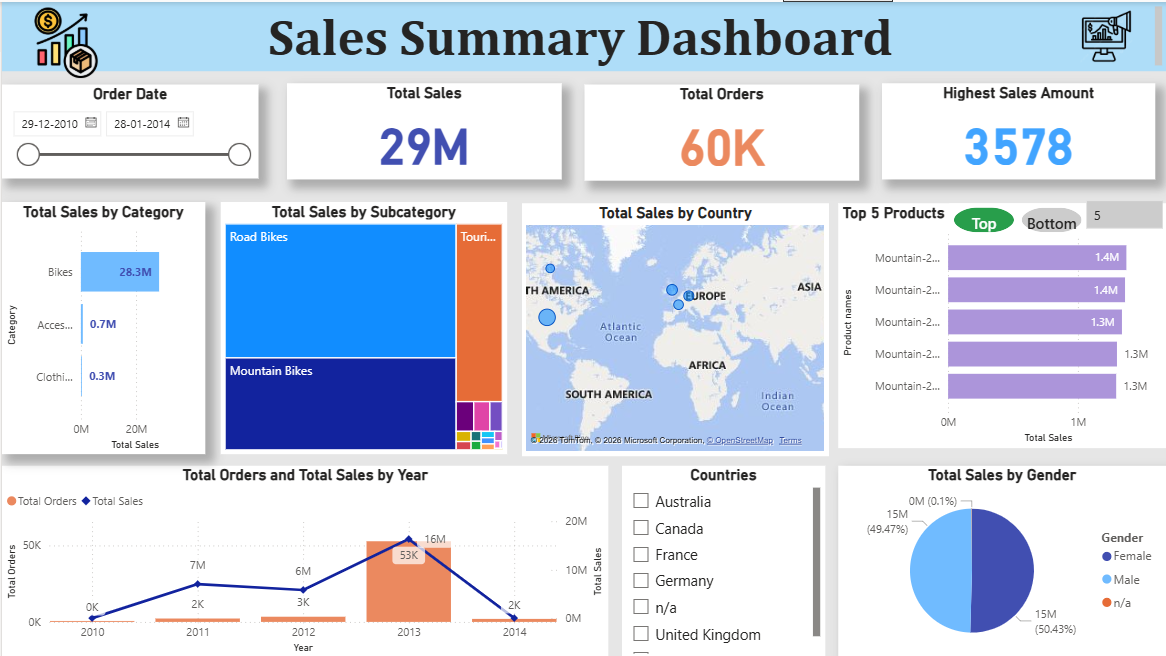

The page's visual inventory and layout, read from the dashboard file:
{"tool":"powerbi","page":{"name":"Page 1","canvas":[1280,720],"ordinal":0},"visuals":[{"type":"lineStackedColumnComboChart","fields":{"Category":["fact_sales.order_date.Variation.Date Hierarchy.Year","fact_sales.order_date.Variation.Date Hierarchy.Quarter"],"Y2":["fact_sales.Total Sales"],"Y":["fact_sales.Total Orders"]},"box":[0,508.6,665.7,211.4],"z":0},{"type":"textbox","box":[0,0,1278.6,75.7],"z":1000},{"type":"slicer","title":"Order Date","fields":{"Values":["fact_sales.order_date"]},"box":[0,90,281.4,102.9],"z":2000},{"type":"clusteredBarChart","title":"Total Sales by Category","fields":{"Y":["fact_sales.Total Sales"],"Category":["dim_products.category"]},"box":[0,220,222.9,277.1],"z":3000},{"type":"card","title":"Total Sales","fields":{"Values":["fact_sales.Total Sales"]},"box":[312.9,88.6,301.4,105.7],"z":4000},{"type":"card","title":"Total Orders","fields":{"Values":["fact_sales.Total Orders"]},"box":[640,90,301.4,105.7],"z":5000},{"type":"treemap","title":"Total Sales by Subcategory","fields":{"Group":["dim_products.subcategory"],"Values":["fact_sales.Total Sales"]},"box":[240,220,314.3,277.1],"z":6000},{"type":"pieChart","title":"Total Sales by Gender","fields":{"Y":["fact_sales.Total Sales"],"Category":["dim_customers.gender"]},"box":[918.6,508.6,360,211.4],"z":7000},{"type":"map","title":"Total Sales by Country","fields":{"Category":["dim_customers.country"],"Size":["fact_sales.Total Sales"]},"box":[571.4,221.4,337.1,277.1],"z":8000},{"type":"card","title":"Highest Sales Amount","fields":{"Values":["Max(fact_sales.sales_amount)"]},"box":[965.7,88.6,300,105.7],"z":9000},{"type":"slicer","title":"Countries","fields":{"Values":["dim_customers.country"]},"box":[680,508.6,222.9,211.4],"z":10000},{"type":"barChart","title":"Top 5 Products","fields":{"Category":["dim_products.product_name"],"Y":["fact_sales.Total Sales"]},"box":[918.6,221.4,360,268.6],"z":11000},{"type":"advancedSlicerVisual","fields":{"Values":["Top/Bottom.Value"]},"box":[1040,221.4,150,37.1],"z":12000},{"type":"slicer","fields":{"Values":["Parameter.Parameter"]},"box":[1177.1,207.1,101.4,78.6],"z":13000},{"type":"image","box":[0,0,141.4,90],"z":14000},{"type":"image","box":[1144.3,0,135.7,75.7],"z":15000}]}

Visuals, with their boxes in screenshot pixels (x1, y1, x2, y2), scaled from the page's 1280x720 canvas onto the 1166x656 screenshot:
lineStackedColumnComboChart - fact_sales.order_date.Variation.Date Hierarchy.Year x fact_sales.order_date.Variation.Date Hierarchy.Quarter: 0:463:606:655
textbox: 0:0:1165:69
"Order Date" slicer: 0:82:256:176
"Total Sales by Category" clusteredBarChart: 0:200:203:453
"Total Sales" card: 285:81:560:177
"Total Orders" card: 583:82:858:178
"Total Sales by Subcategory" treemap: 219:200:505:453
"Total Sales by Gender" pieChart: 837:463:1165:655
"Total Sales by Country" map: 521:202:828:454
"Highest Sales Amount" card: 880:81:1153:177
"Countries" slicer: 619:463:822:655
"Top 5 Products" barChart: 837:202:1165:446
advancedSlicerVisual - Top/Bottom.Value: 947:202:1084:236
slicer - Parameter.Parameter: 1072:189:1165:260
image: 0:0:129:82
image: 1042:0:1165:69
